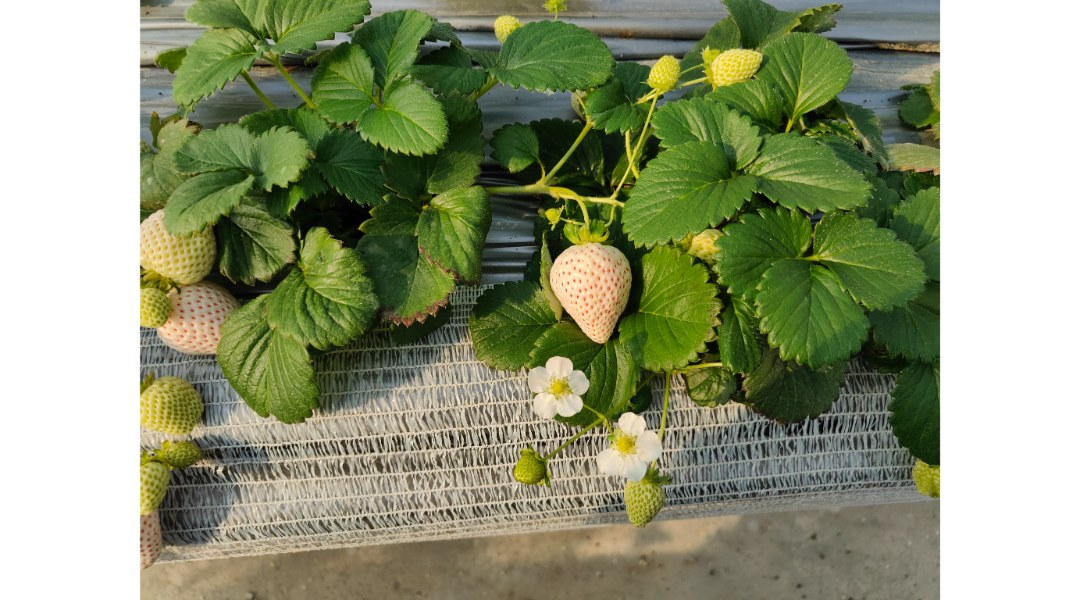berry: (554, 227, 629, 345), (134, 205, 214, 298), (162, 284, 244, 357), (130, 374, 217, 440), (116, 505, 174, 580), (114, 459, 180, 514), (623, 464, 669, 542), (698, 48, 770, 88), (126, 289, 178, 328), (503, 452, 562, 485), (642, 53, 685, 98), (156, 430, 202, 472)
flower: (593, 412, 665, 483), (524, 355, 586, 426)
strain: (550, 124, 589, 180), (545, 422, 599, 459), (484, 176, 537, 206), (662, 375, 671, 437)
